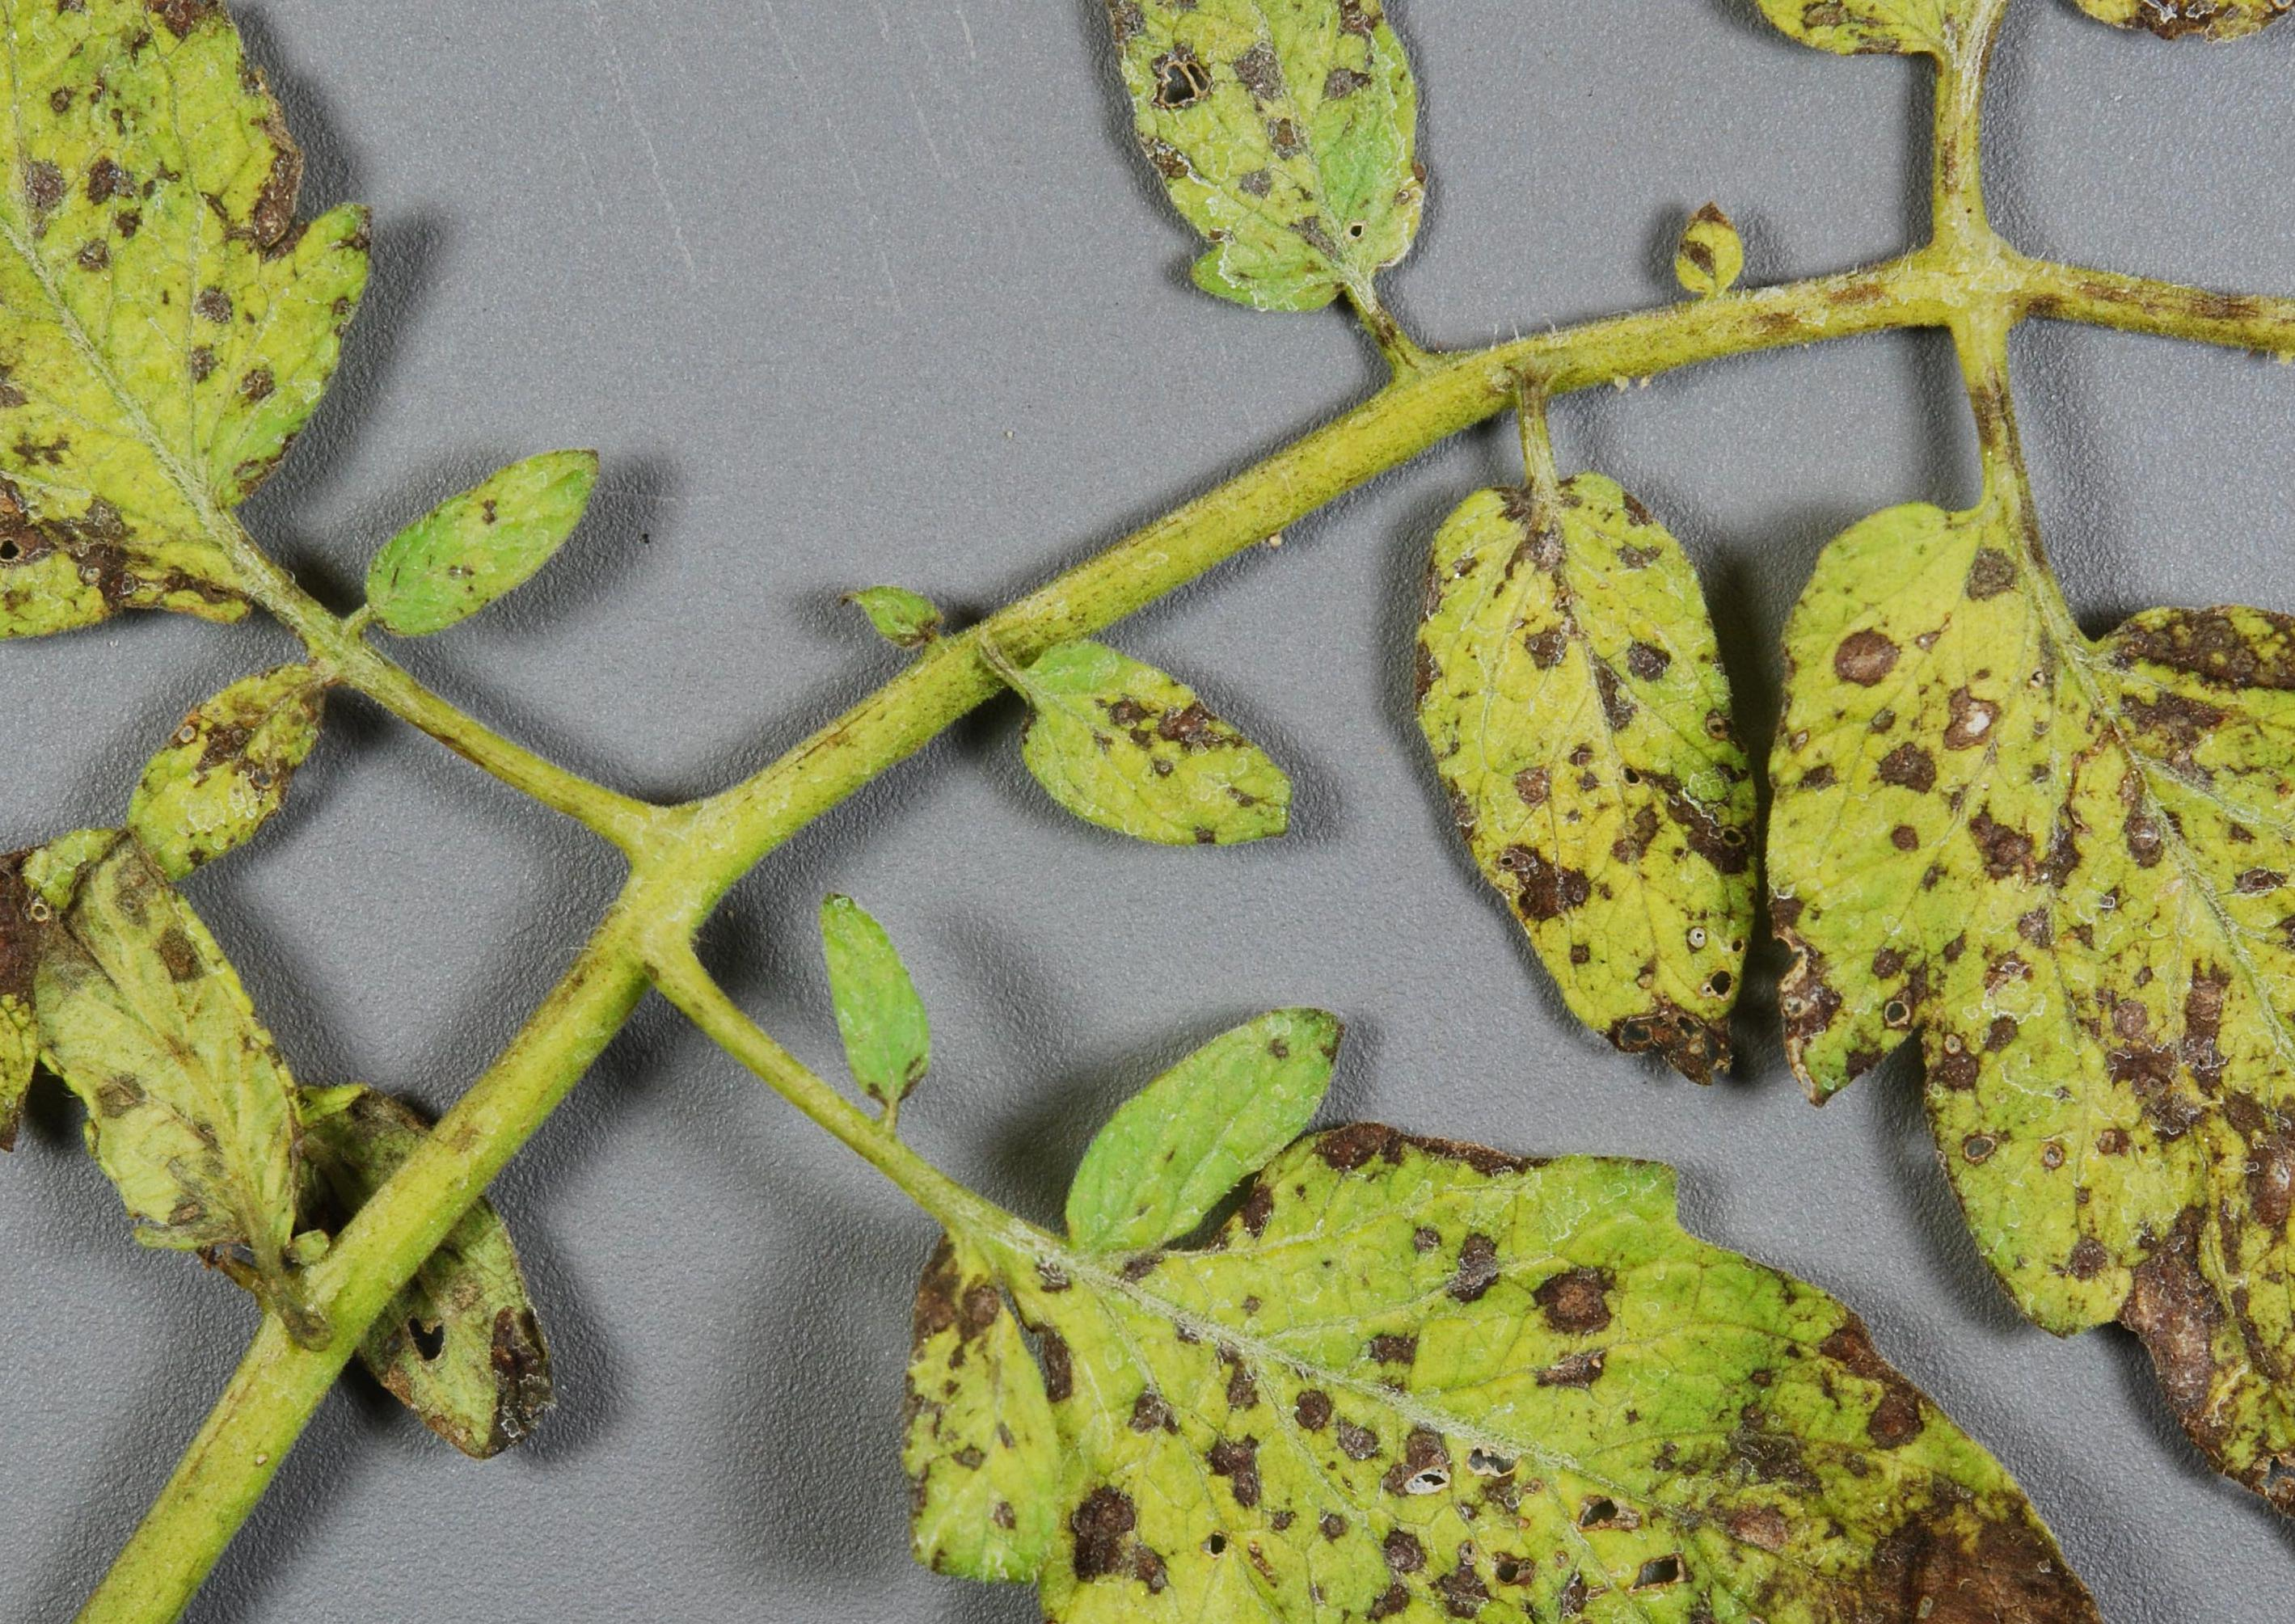Tomato Septoria leaf spot: (877, 1074, 2233, 1624), (1759, 413, 2295, 1624), (0, 0, 469, 729), (1416, 475, 1810, 1128), (0, 780, 306, 1338), (1009, 0, 1508, 330), (991, 627, 1337, 930)
